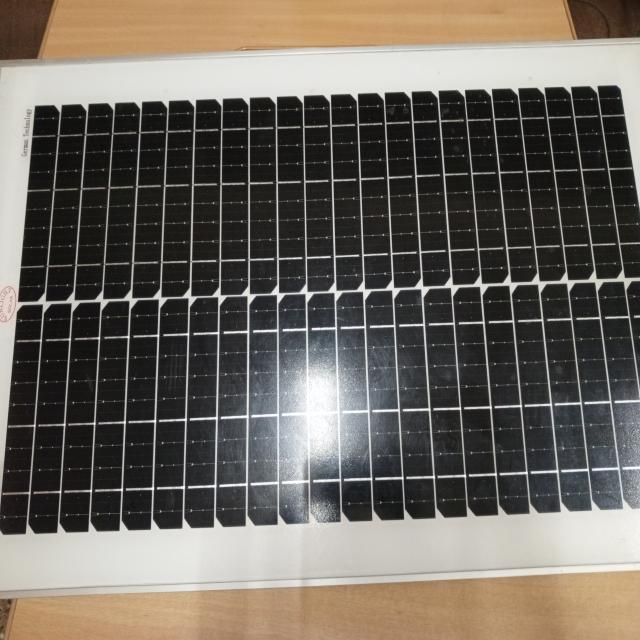Clean: (20, 84, 640, 525)
